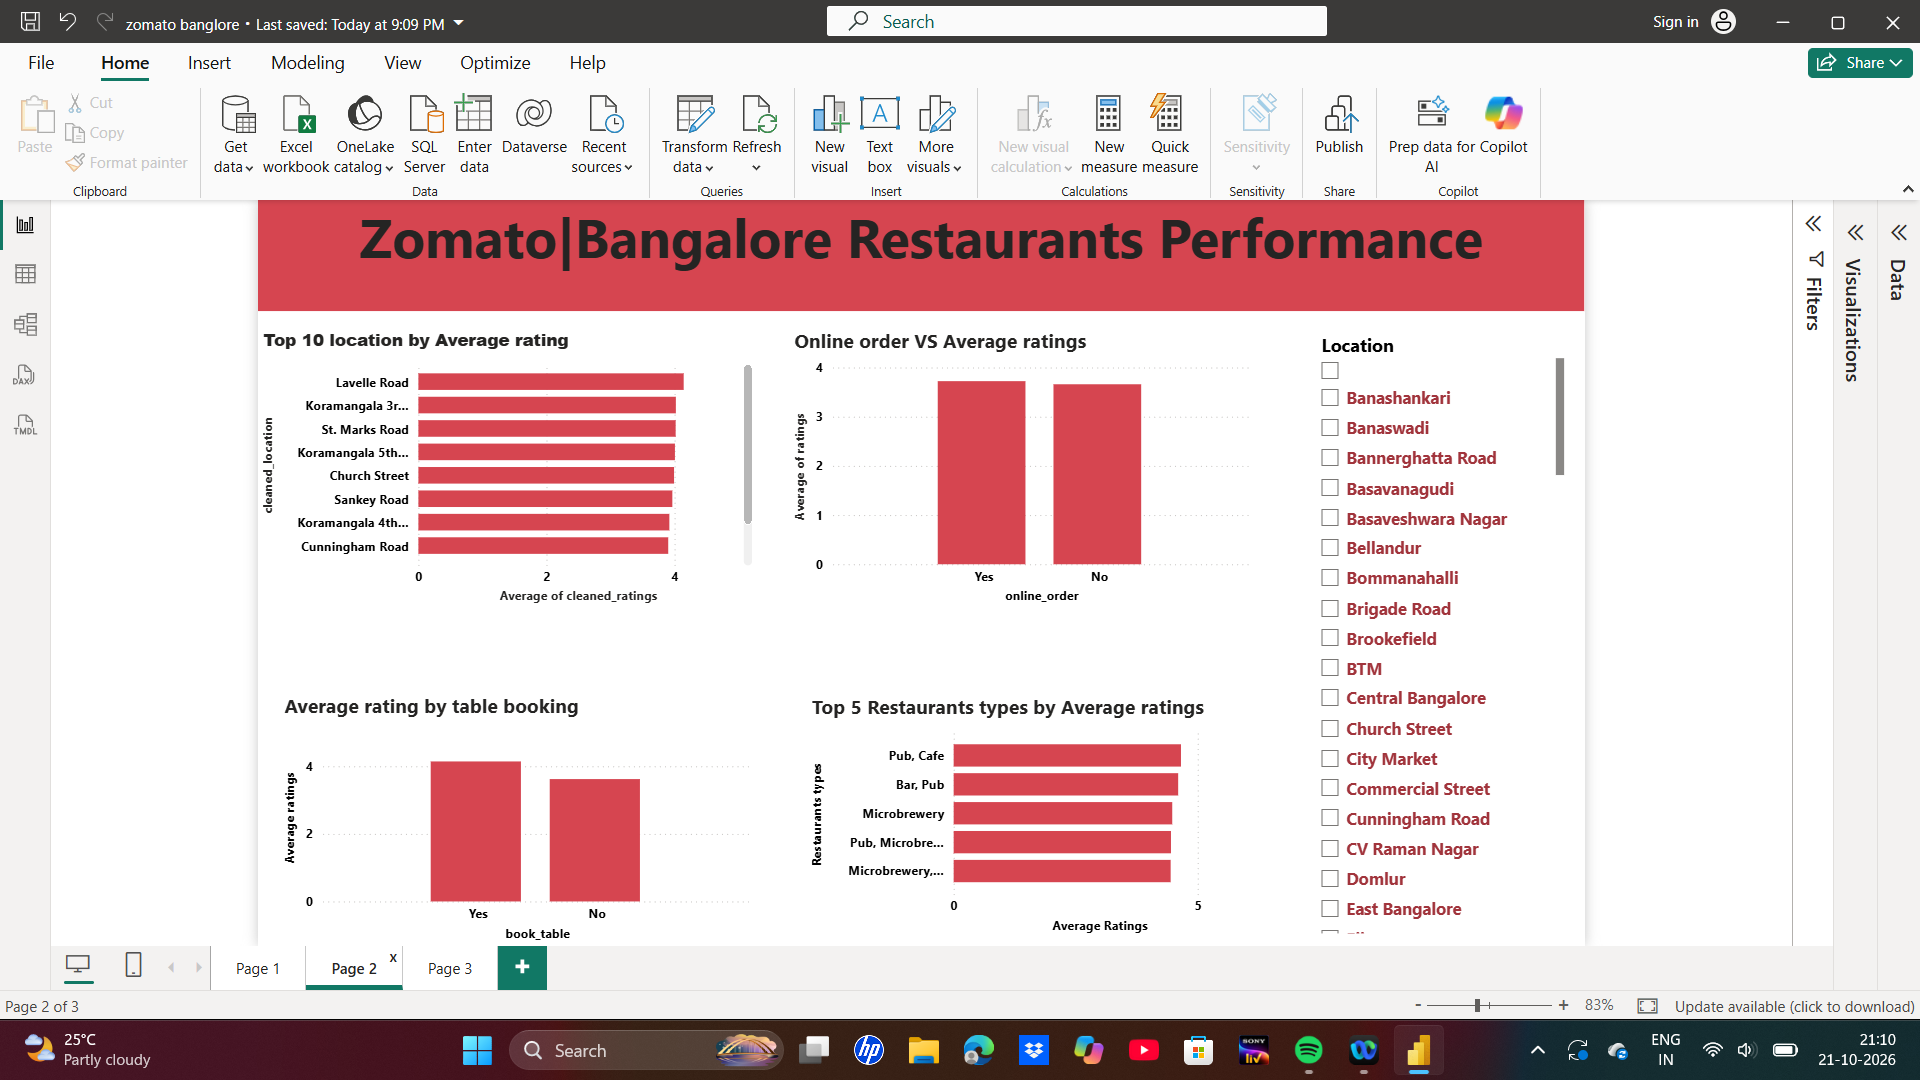

What the dashboard file says about the page in this screenshot:
{"tool":"powerbi","page":{"name":"Page 2","canvas":[1280,720],"ordinal":1},"visuals":[{"type":"textbox","title":"Zomato|Bangalore  Restaurants Performance","box":[0,0,1280.3,107],"z":0},{"type":"clusteredBarChart","title":"Top 10 location by Average rating","fields":{"Category":["zomato.cleaned_location"],"Y":["Avg(zomato.cleaned_ratings)"]},"box":[0,123.1,482.1,271.8],"z":1000},{"type":"clusteredColumnChart","title":"Online order VS Average ratings","fields":{"Category":["zomato.online_order"],"Y":["Avg(zomato.cleaned_ratings)"]},"box":[513.2,123.5,450.1,271.7],"z":2000},{"type":"clusteredColumnChart","title":"Average rating by table booking","fields":{"Category":["zomato.book_table"],"Y":["Avg(zomato.cleaned_ratings)"]},"box":[20.5,475.6,461.5,244.9],"z":3000},{"type":"clusteredBarChart","title":"Top 5 Restaurants types by Average ratings","fields":{"Category":["zomato.cleaned_rest_type"],"Y":["Avg(zomato.cleaned_ratings)"]},"box":[529.7,476.2,433.6,236],"z":4000},{"type":"slicer","fields":{"Values":["zomato.cleaned_location"]},"box":[1012.8,123.1,252.6,589.7],"z":5000}]}

Visuals, with their boxes on the page's 1280x720 design canvas (x1, y1, x2, y2). These are canvas units, not pixel positions in the 1920x1080 screenshot, which may show the page scaled, cropped or inside an application window:
"Zomato|Bangalore  Restaurants Performance" textbox: [0,0,1280,107]
"Top 10 location by Average rating" clusteredBarChart: [0,123,482,395]
"Online order VS Average ratings" clusteredColumnChart: [513,124,963,395]
"Average rating by table booking" clusteredColumnChart: [20,476,482,720]
"Top 5 Restaurants types by Average ratings" clusteredBarChart: [530,476,963,712]
slicer - zomato.cleaned_location: [1013,123,1265,713]
